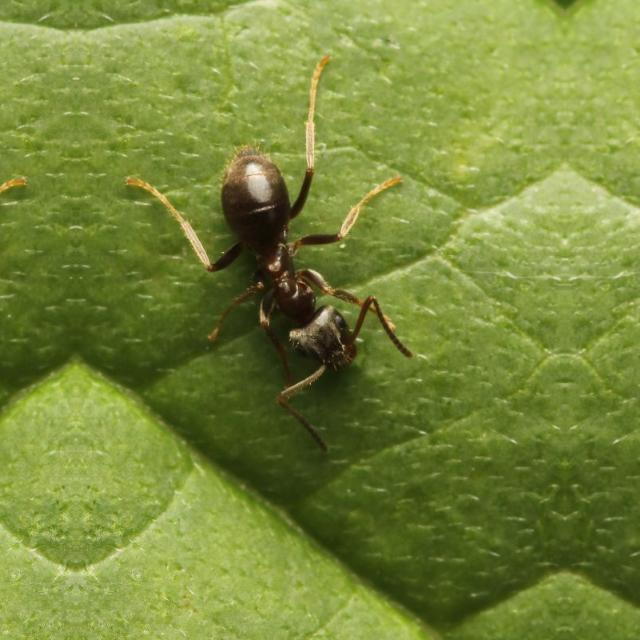Lasius: (145, 103, 395, 413)
